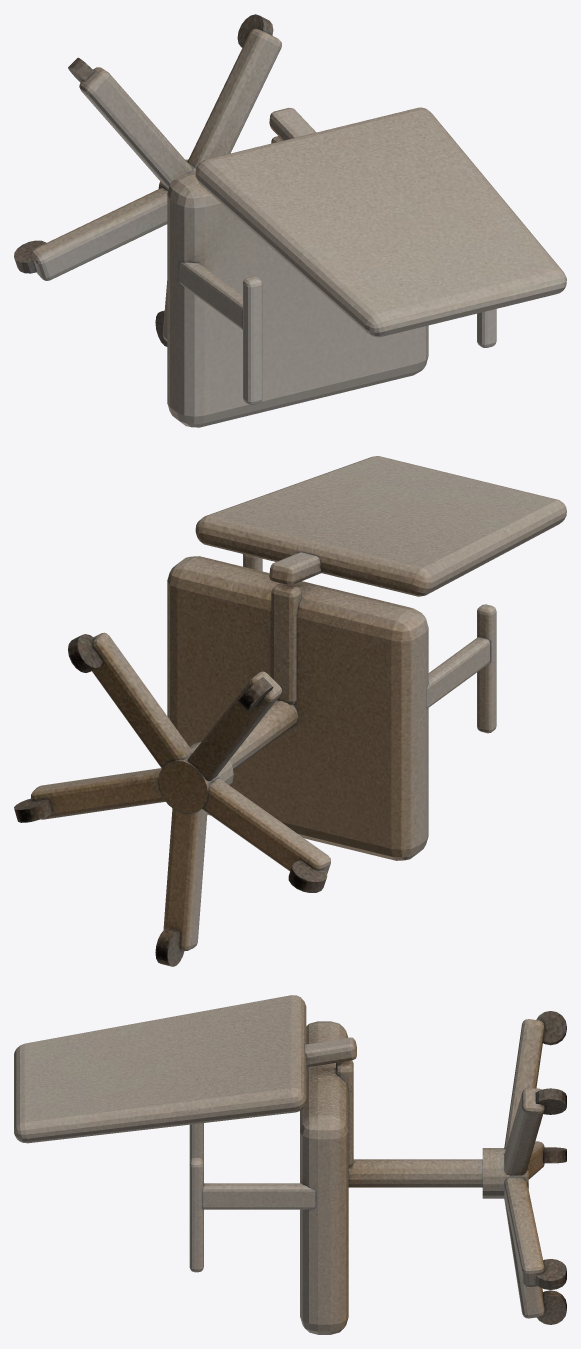
3 views of the same model, one above another, from view 1: azimuth 30°, elevation 25°; view 2: azimuth 150°, elevation 25°; view 3: azimuth 270°, elevation 25° (orthographic). The views are drawn at different scales.
Visible parts, largest first — view 1: E2_final.001; view 2: E2_final.001; view 3: E2_final.001.
Boxes of the visible parts, <box> form: E2_final.001: <box>14,14,566,427</box>; E2_final.001: <box>14,456,566,966</box>; E2_final.001: <box>14,995,566,1334</box>.
Bounding box in the file's own units: 0.6199 × 0.6085 × 1.08.
Materials: 1 (1 with a texture image).
